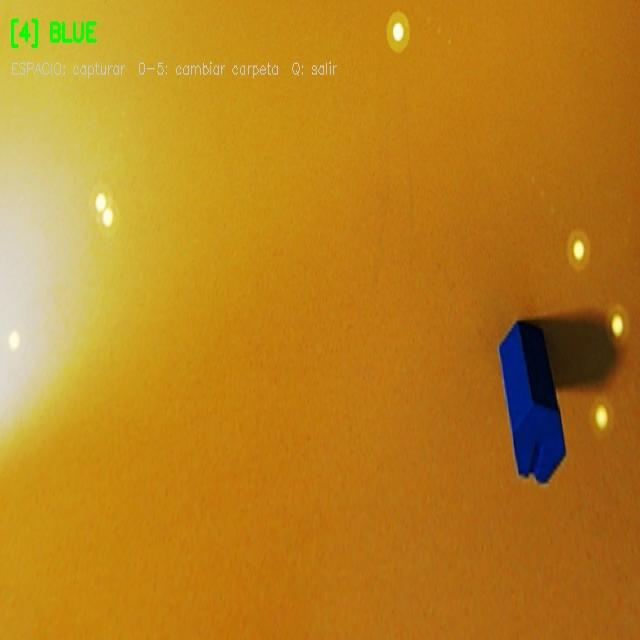blue: (498, 316, 566, 493), (499, 320, 565, 483)
